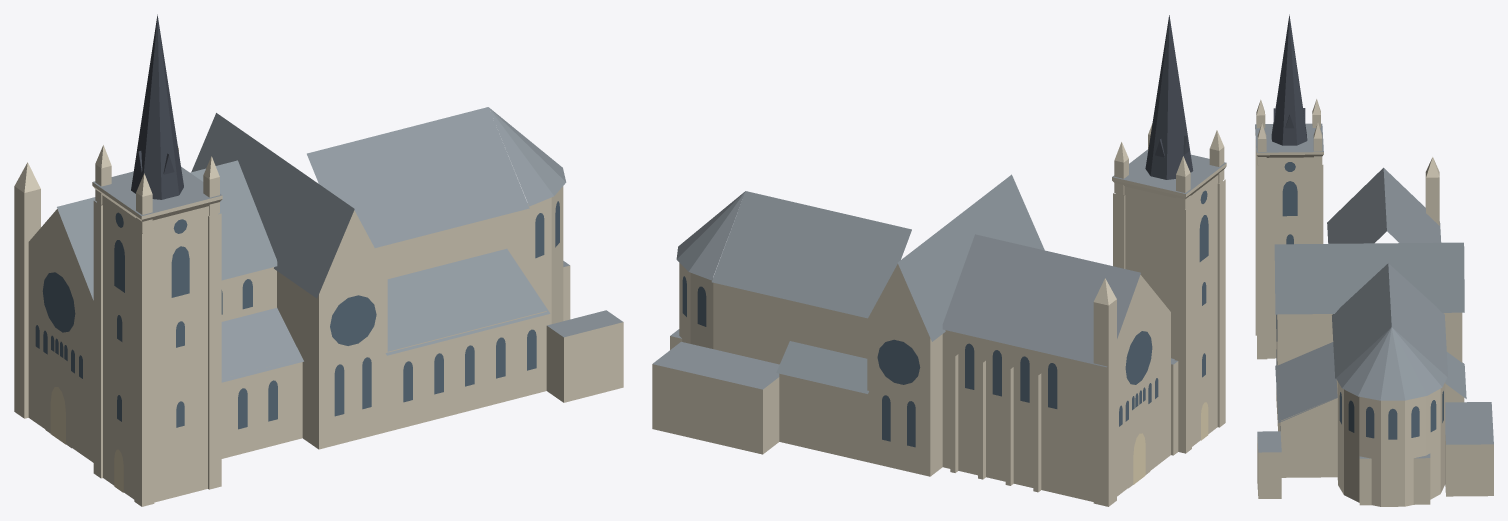
3 views of the same model, side by side, from view 1: azimuth 30°, elevation 25°; view 2: azimuth 150°, elevation 25°; view 3: azimuth 270°, elevation 25° (orthographic). The views are drawn at different scales.
Parts seen in each view (by area): view 1: holy-name-cathedral; view 2: holy-name-cathedral; view 3: holy-name-cathedral.
Boxes of the visible parts, box(x1,y1,x2,y2) form: holy-name-cathedral: box(14, 14, 623, 506); holy-name-cathedral: box(652, 15, 1226, 506); holy-name-cathedral: box(1255, 14, 1493, 506).
Size of the model in its own units: 73.52 by 64 by 41.86.
